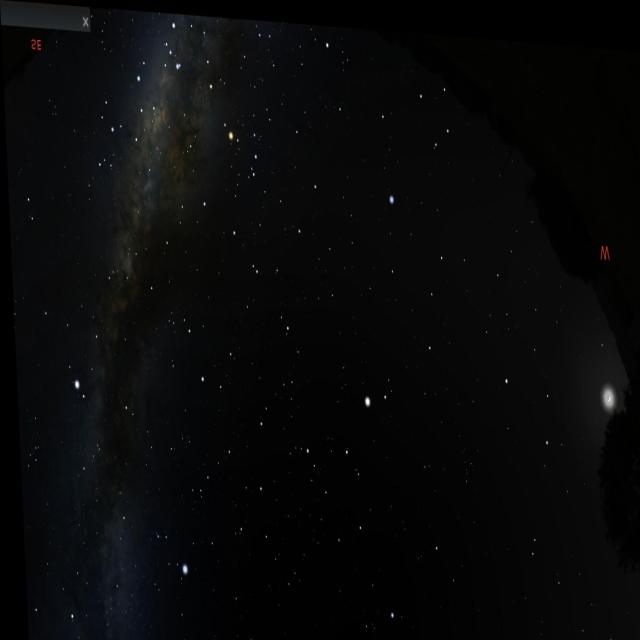aquila: (50, 254, 138, 431)
bootes: (307, 355, 401, 552)
leo: (489, 313, 637, 476)
lyra: (142, 522, 184, 590)
moon: (590, 351, 622, 424)
sagittarius: (90, 51, 158, 172)
scorpius: (160, 10, 263, 179)
